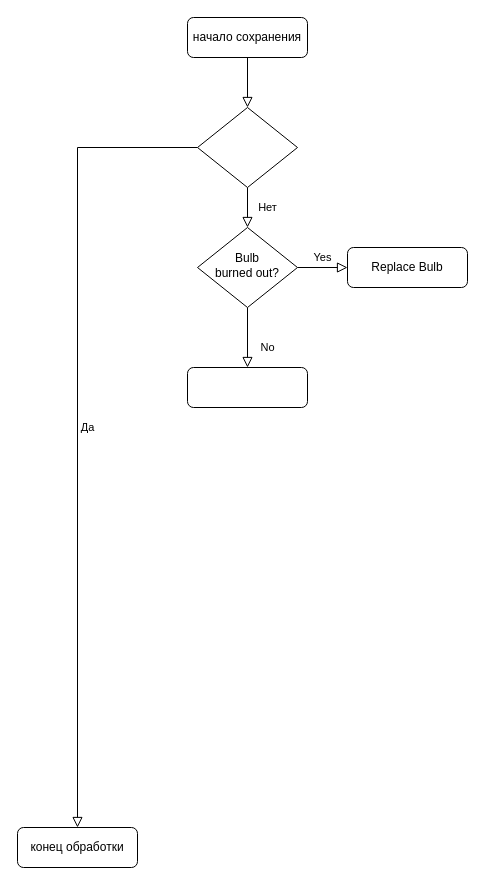
Some shapes in this 485 by 885 pixel diagram are drawn without their labels. Here are the shapes that lost their labels. From the top down, the centre of each, then its label:
(x=247, y=147): список операций пуст
(x=247, y=387): Repair Lamp
